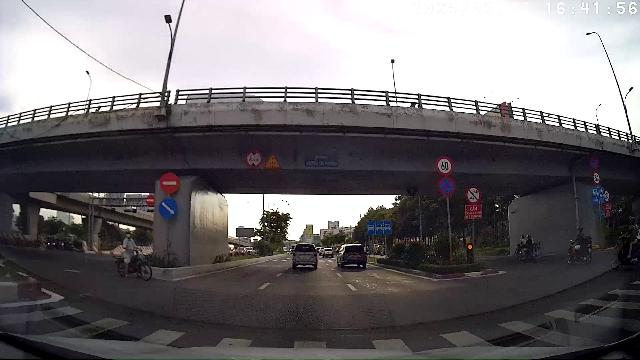102-cam-di-nguoc-chieu: (158, 172, 180, 194)
127-toc-do-toi-da-50: (592, 172, 600, 185)
127-toc-do-toi-da-60: (434, 156, 454, 176)
130-cam-dung-va-do-xe: (436, 177, 456, 197)
302a-huong-phai-di-vong-chuong-ngai-vat-1: (158, 198, 178, 220)
